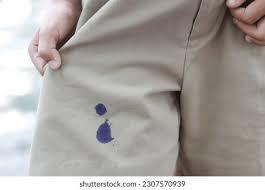ink: (97, 123, 112, 144), (95, 104, 107, 115)
